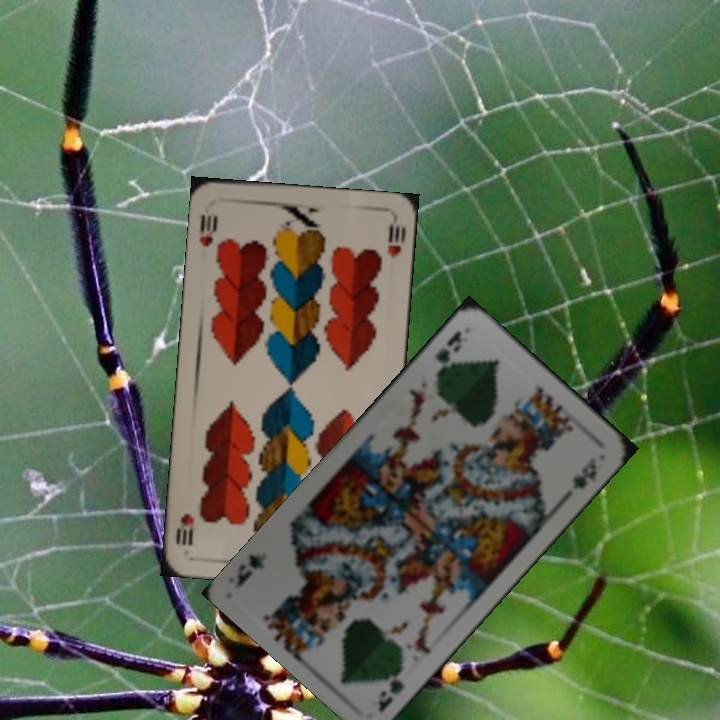GK: (374, 660, 407, 716), (431, 326, 465, 366)
H10: (195, 210, 220, 250)
